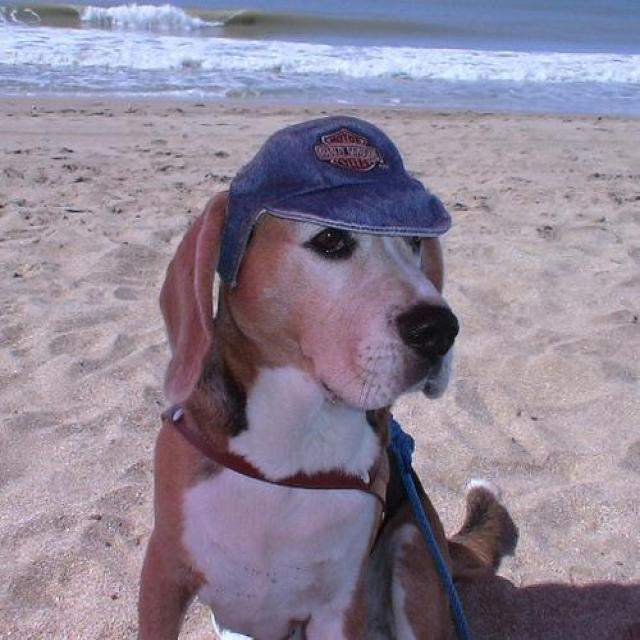beagle: (135, 185, 506, 637)
